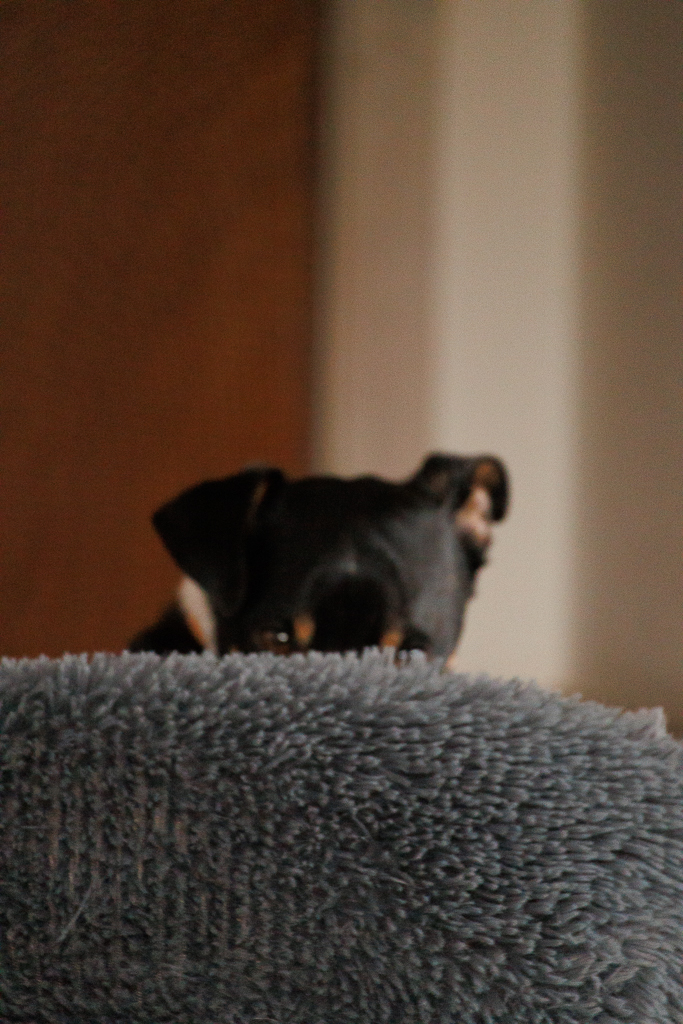Dog: (96, 445, 515, 691)
